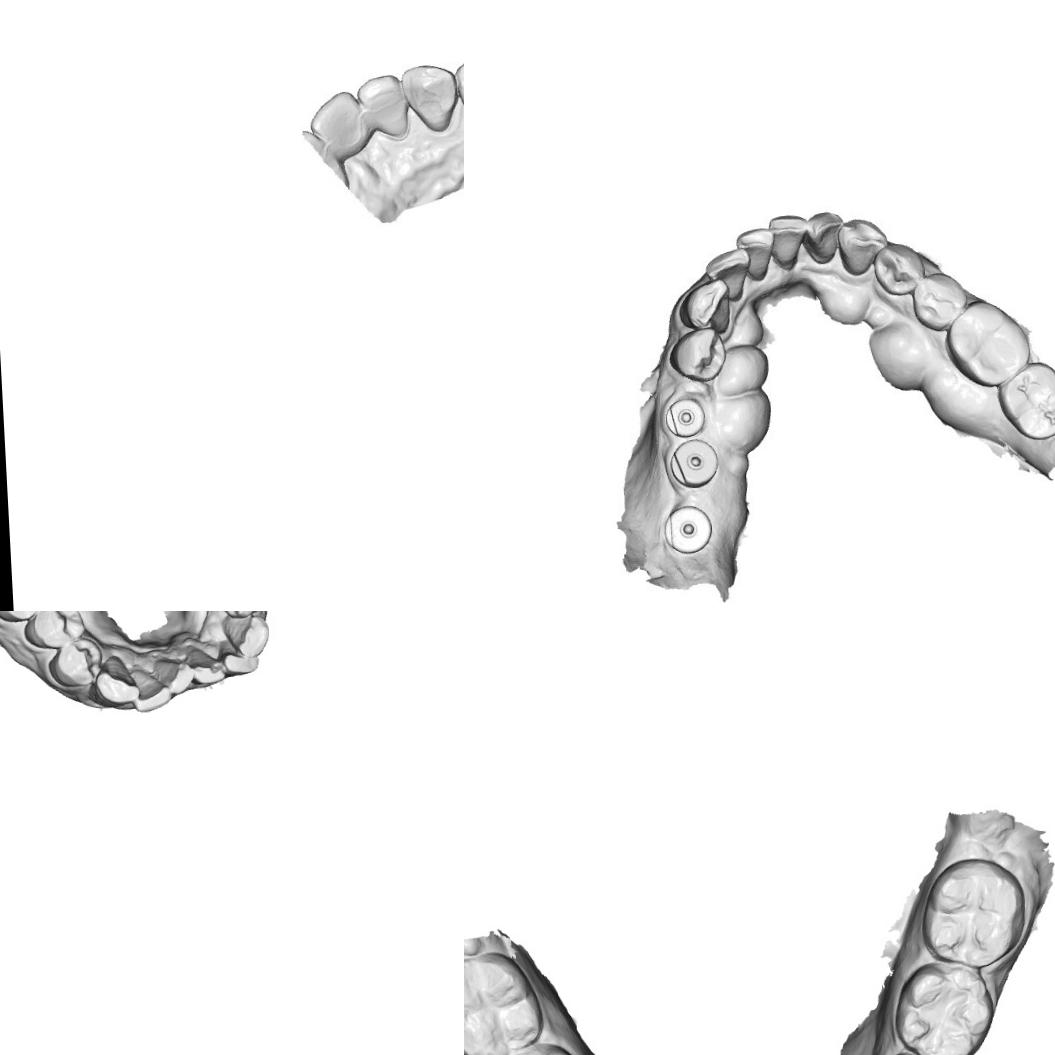canine: (397, 55, 460, 135), (835, 214, 889, 280), (680, 276, 735, 334), (92, 652, 142, 709), (218, 612, 272, 660)
implant: (659, 498, 716, 558), (666, 436, 719, 492), (661, 392, 705, 440)
incisor: (351, 72, 414, 146), (305, 85, 369, 156), (704, 247, 752, 305), (806, 205, 842, 268), (766, 214, 805, 271), (736, 226, 774, 282), (128, 666, 171, 714), (151, 656, 198, 696), (184, 644, 227, 687), (216, 646, 260, 679)
molar: (917, 854, 1025, 968), (891, 960, 997, 1055), (464, 952, 539, 1055), (948, 299, 1032, 387), (1004, 365, 1055, 439)
premolar: (907, 271, 967, 334), (668, 323, 730, 383), (46, 634, 104, 690), (20, 611, 87, 649), (875, 245, 922, 296), (453, 49, 464, 129)
